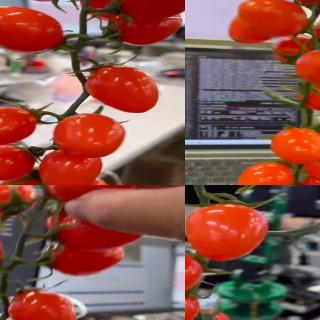tomato: (185, 204, 269, 260), (55, 208, 147, 248), (88, 64, 161, 114), (54, 114, 125, 160), (0, 5, 65, 53), (48, 240, 128, 275), (107, 12, 184, 47), (241, 0, 307, 40), (227, 7, 287, 47), (40, 150, 103, 185), (9, 289, 79, 320), (269, 123, 320, 165), (0, 104, 39, 147), (273, 33, 317, 69), (235, 160, 296, 185), (0, 145, 37, 183), (46, 185, 127, 202), (0, 185, 39, 220), (130, 0, 185, 20), (2, 167, 57, 185), (292, 49, 320, 84), (293, 79, 320, 112), (185, 248, 203, 295), (185, 309, 235, 320), (305, 149, 320, 184), (185, 291, 199, 320)
